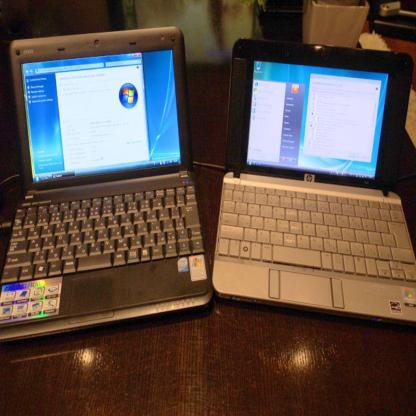board: (0, 28, 212, 337), (212, 38, 416, 324)
